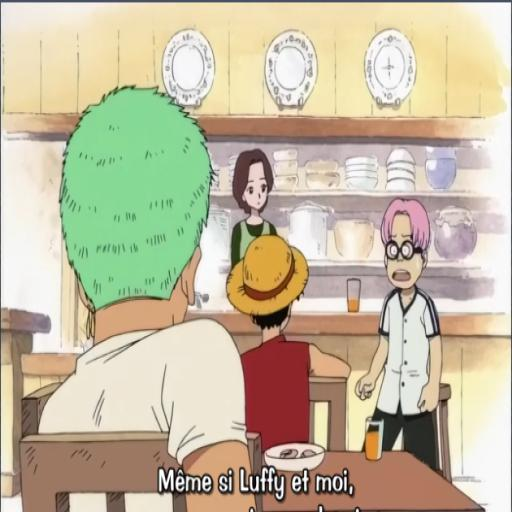Luffy: (217, 226, 353, 466)
Zoro: (34, 82, 246, 510)
